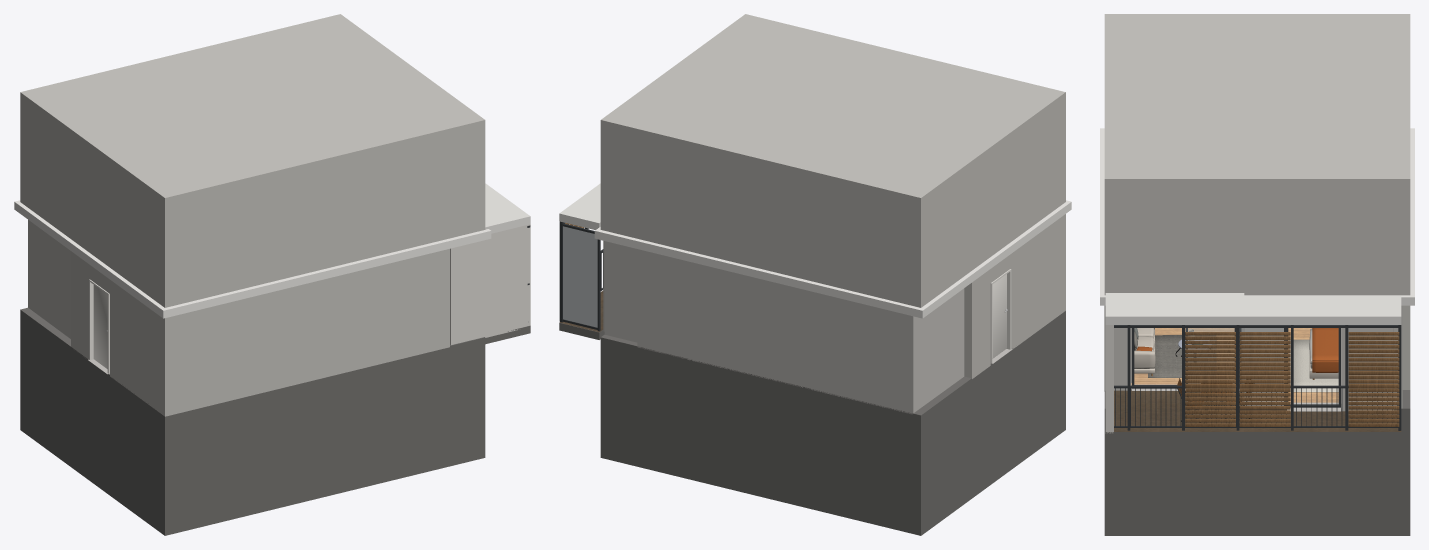
3 views of the same model, side by side, from view 1: azimuth 30°, elevation 25°; view 2: azimuth 150°, elevation 25°; view 3: azimuth 270°, elevation 25° (orthographic). The views are drawn at different scales.
Parts seen in each view (by area): view 1: c_Enduit de facade, c_Enduit de facade k0.3, a_Enduit de facade, a_Enduit blanc k0.95, a_Plafond, a_Plafond k0.95, b_Porte paliere, b_Porte; view 2: c_Enduit de facade, c_Enduit de facade k0.3, a_Enduit de facade, a_Plafond, b_Verre depoli k0.8, a_Plafond k0.95, b_Porte paliere, b_Alu anthracite k0.9, b_Porte; view 3: c_Enduit de facade, c_Enduit de facade k0.3, b_Teck k0.62, a_Plafond k0.95, b_Alu anthracite k0.9, a_Sol de terrasse k0.78, a_Enduit de facade, a_Plafond, b_Tapis, b_Tapis de chambre, b_Jete de lit 1, b_Alu anthracite (+6 smaller).
Boxes of the visible parts, box(x1,y1,x2,y2) form: c_Enduit de facade: box(20, 14, 485, 307); c_Enduit de facade k0.3: box(20, 307, 530, 535); a_Enduit de facade: box(28, 220, 449, 416); a_Enduit blanc k0.95: box(450, 224, 530, 344); a_Plafond: box(14, 200, 491, 318); a_Plafond k0.95: box(485, 183, 530, 233); b_Porte paliere: box(93, 285, 107, 368); b_Porte: box(89, 279, 109, 373); c_Enduit de facade: box(600, 14, 1065, 307); c_Enduit de facade k0.3: box(559, 311, 1065, 535); a_Enduit de facade: box(603, 214, 1065, 414); a_Plafond: box(594, 200, 1071, 318); b_Verre depoli k0.8: box(563, 226, 597, 327); a_Plafond k0.95: box(559, 183, 600, 229); b_Porte paliere: box(992, 274, 1006, 358); b_Alu anthracite k0.9: box(559, 221, 603, 331); b_Porte: box(990, 269, 1011, 363); c_Enduit de facade: box(1104, 14, 1410, 295); c_Enduit de facade k0.3: box(1104, 385, 1410, 535); b_Teck k0.62: box(1185, 332, 1399, 426); a_Plafond k0.95: box(1105, 293, 1401, 324); b_Alu anthracite k0.9: box(1114, 325, 1401, 430); a_Sol de terrasse k0.78: box(1114, 390, 1401, 431); a_Enduit de facade: box(1104, 305, 1410, 411); a_Plafond: box(1100, 128, 1414, 305); b_Tapis: box(1148, 335, 1216, 377); b_Tapis de chambre: box(1289, 339, 1338, 392); b_Jete de lit 1: box(1312, 328, 1338, 372); b_Alu anthracite: box(1132, 328, 1340, 410).
Bounding box in the file's own units: 9.87 × 8.61 × 6.89.
Materials: 74 (35 with a texture image).
